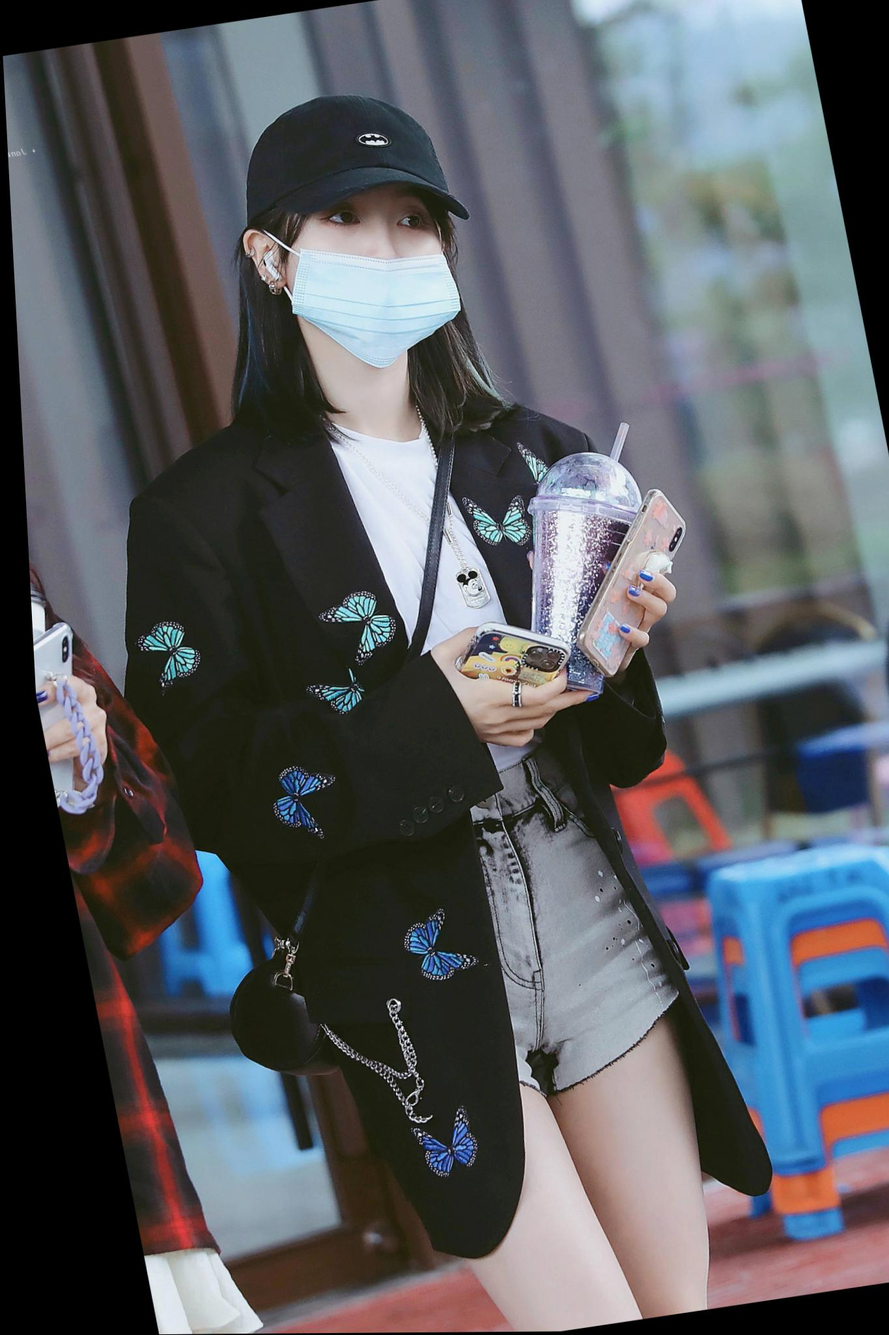WRONG: (279, 158, 466, 377)
